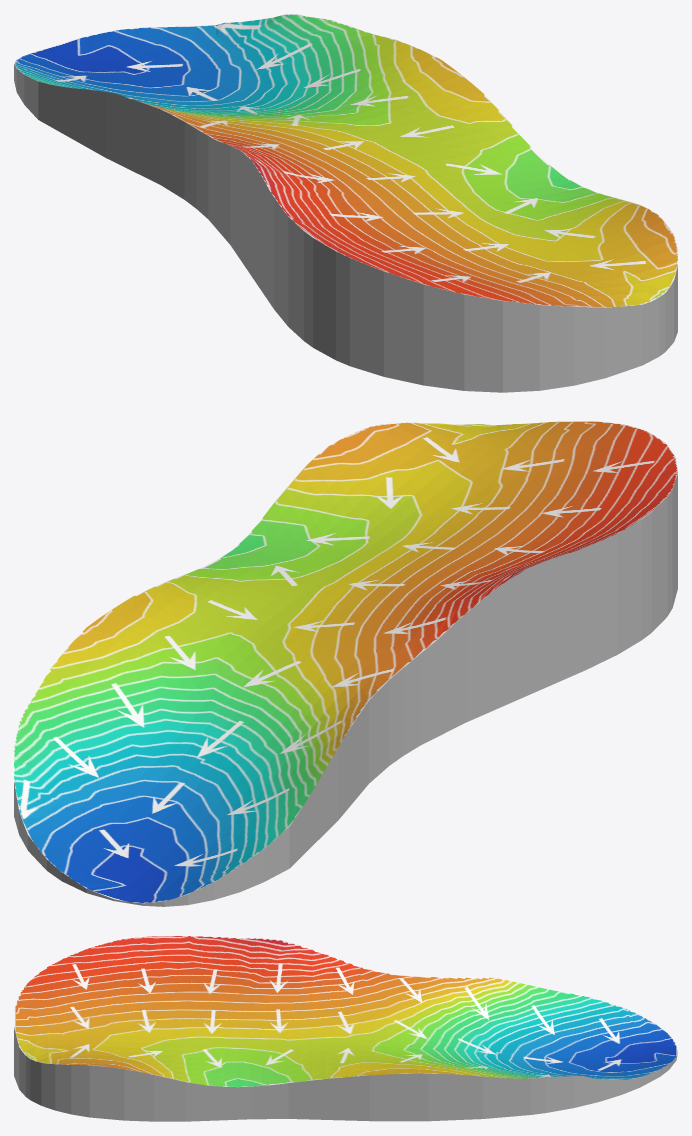
The picture shows the model from 3 angles, top to bottom: view 1: azimuth 30°, elevation 25°; view 2: azimuth 150°, elevation 25°; view 3: azimuth 270°, elevation 25°; orthographic projection. The views are drawn at different scales.
Size of the model in its own units: 1.96 by 0.6728 by 5.01.
Materials: 2 (1 with a texture image).
